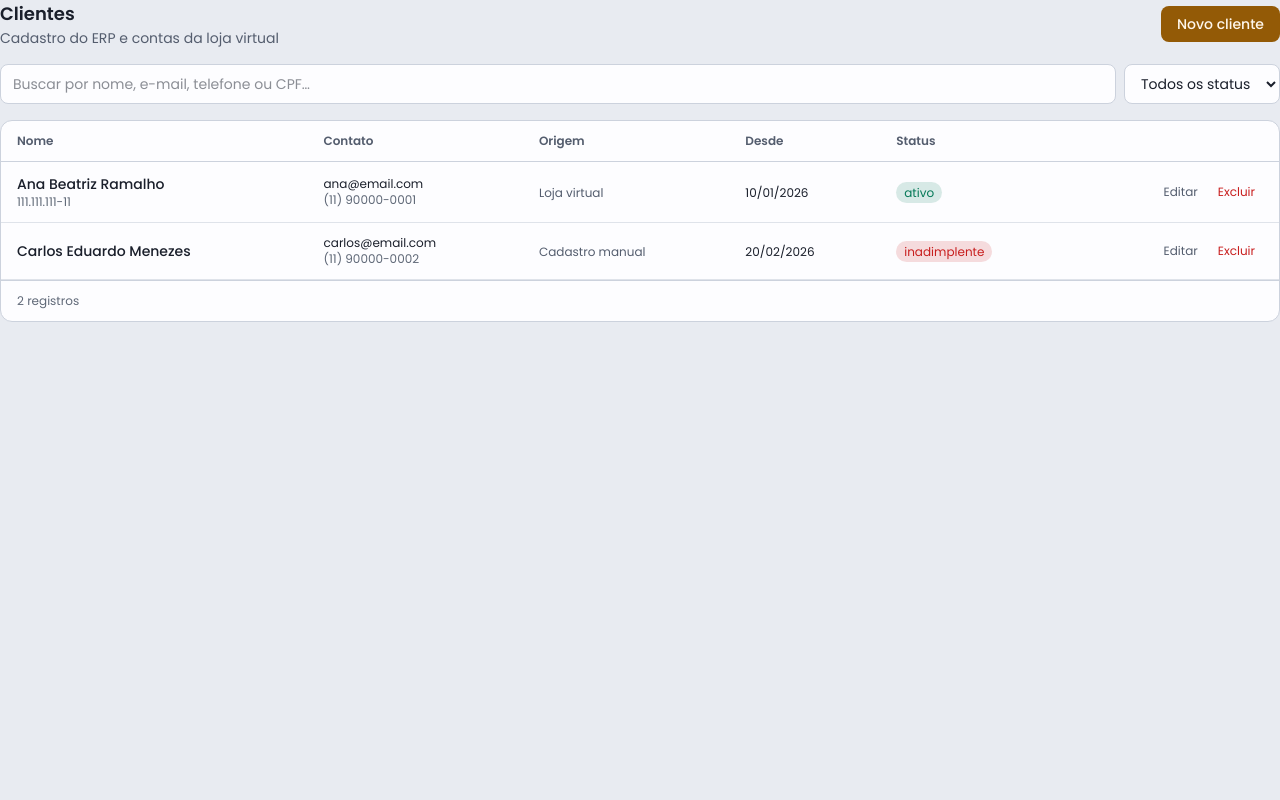
cadastro › não envia nada quando o nome está vazio
Expected: the text "Ana Beatriz Ramalho" is shown, [17,174,164,194]
Click the button "Novo cliente".
click(1220, 24)  # box [1161,6,1279,42]
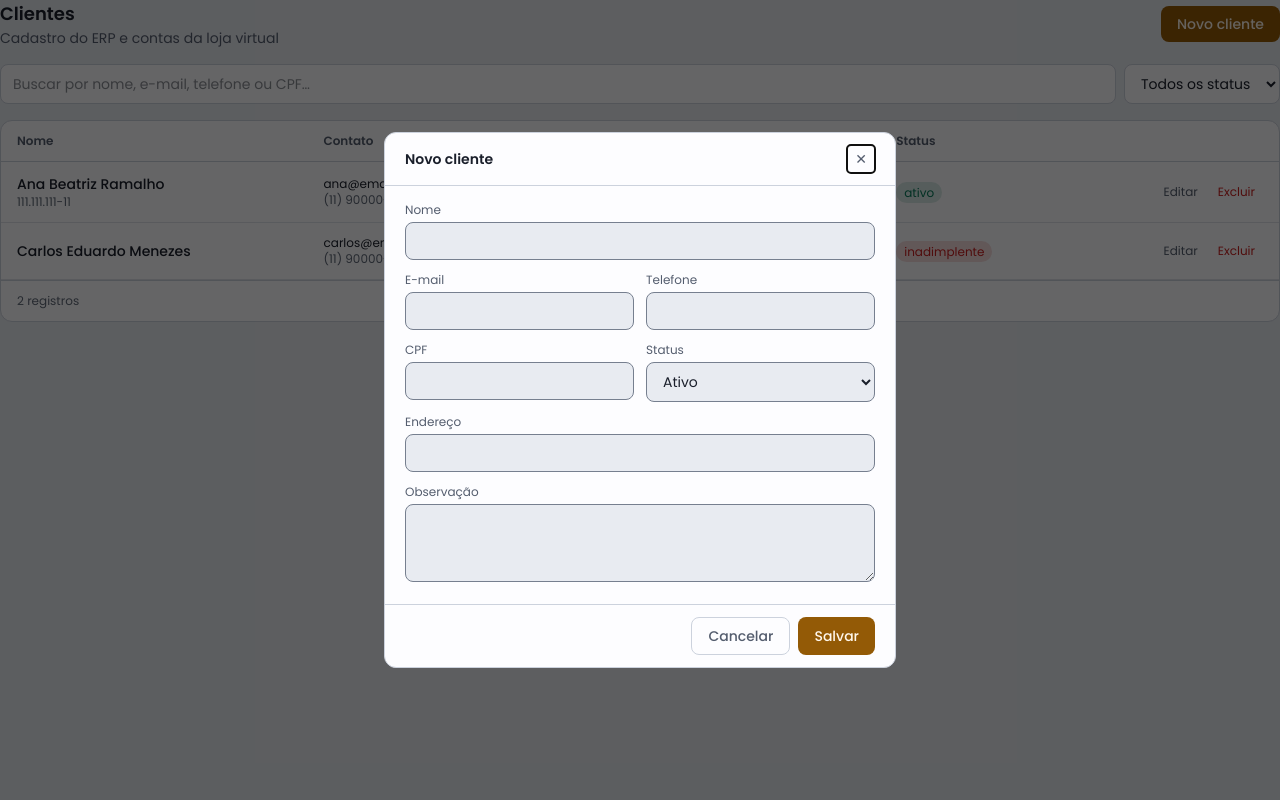
Click the button "Salvar".
click(837, 636)  # box [798,617,875,655]
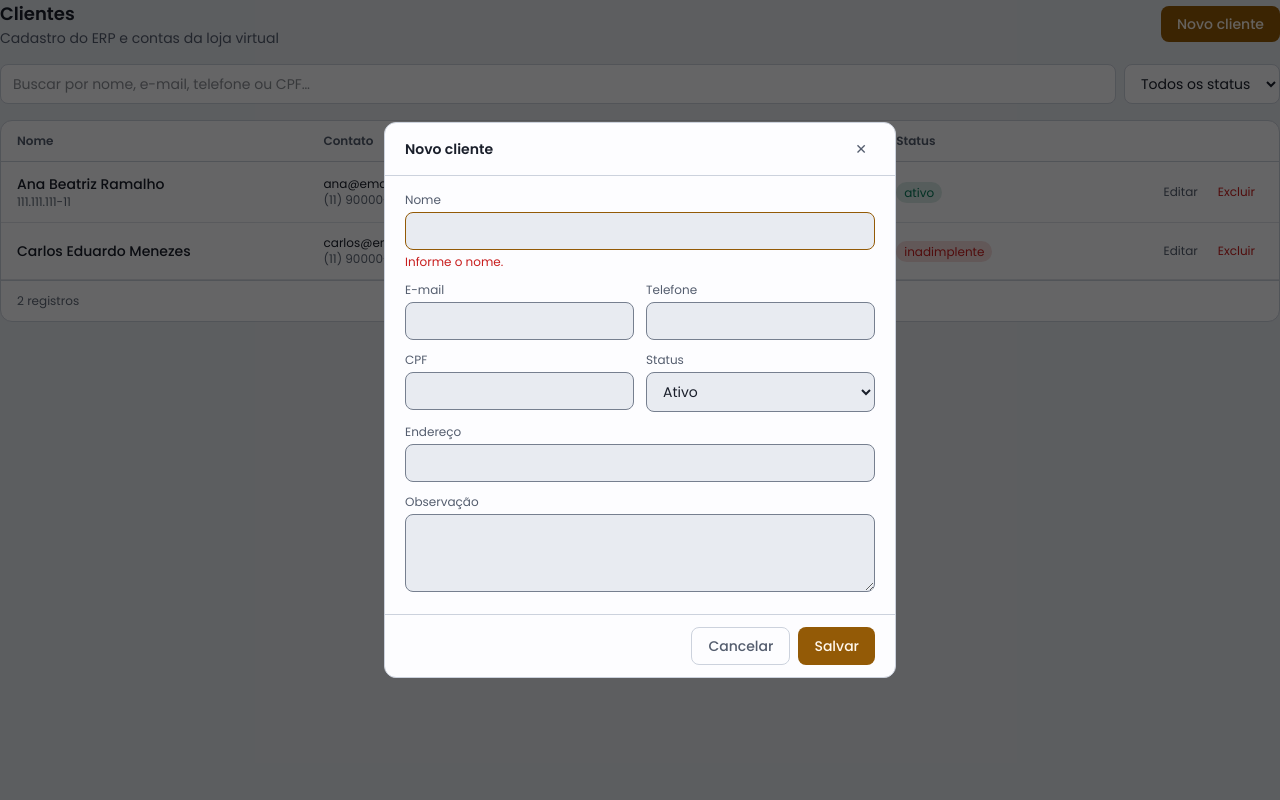
Expected: the text "Informe o nome." is shown, [405,253,503,270]
